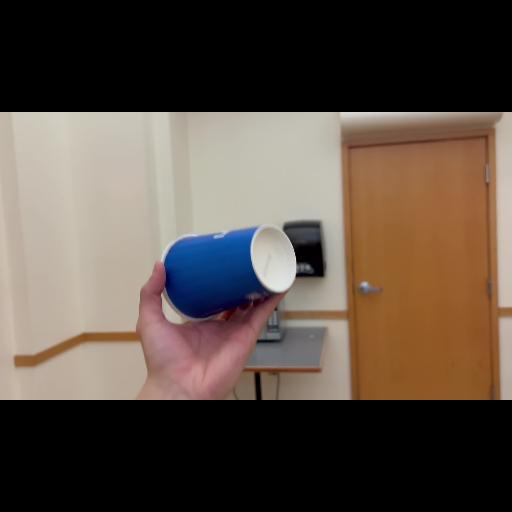lp_paper_cup: (141, 212, 305, 340)
